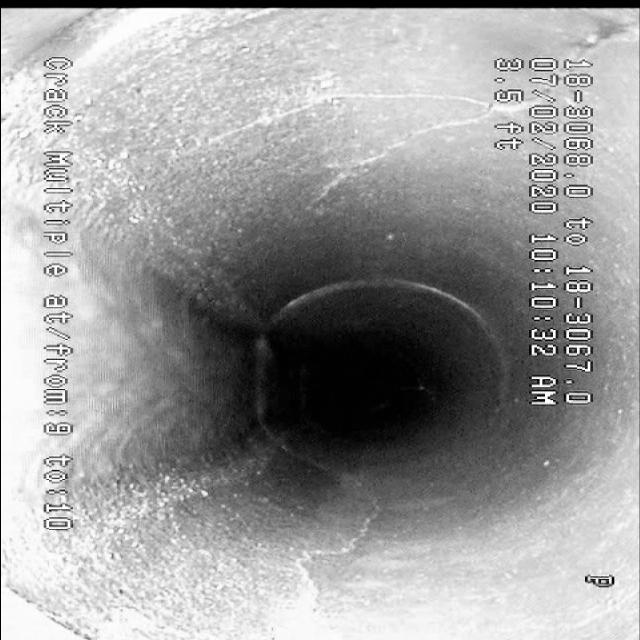Crack: (187, 85, 495, 219), (255, 499, 402, 629)
